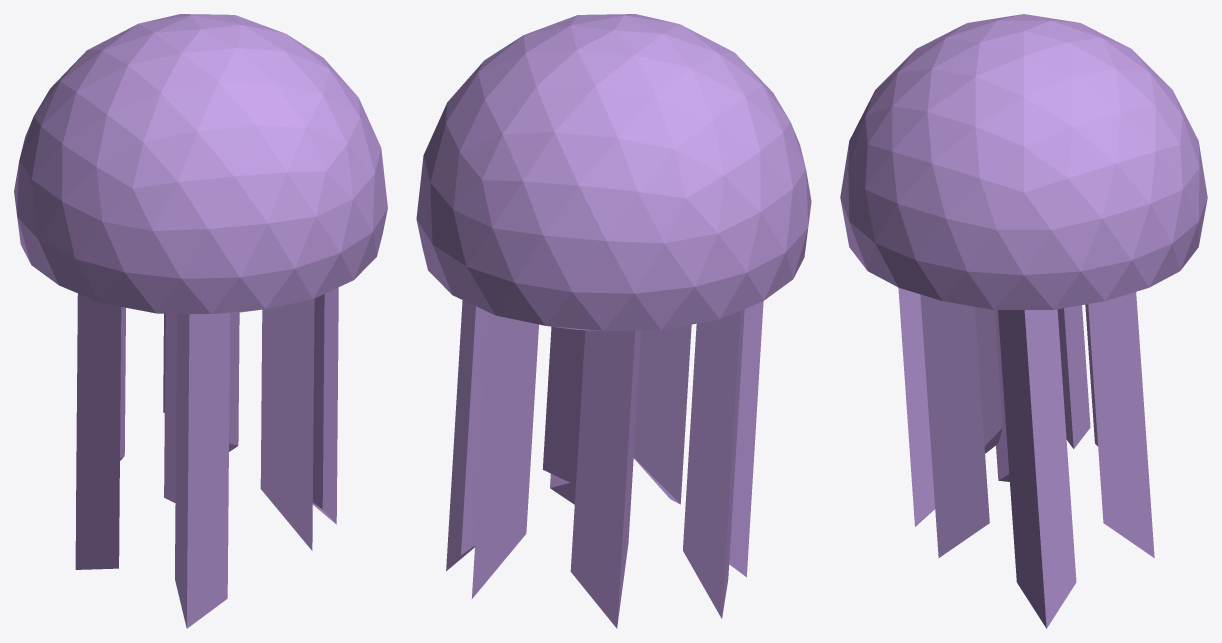
File: jelly.glb
3 renders of one model, left to right at view 1: azimuth 30°, elevation 25°; view 2: azimuth 150°, elevation 25°; view 3: azimuth 270°, elevation 25°, orthographic. The views are drawn at different scales.
Parts seen in each view (by area): view 1: Icosphere; view 2: Icosphere; view 3: Icosphere.
Part boxes in pixels (<box>): Icosphere: <box>14,14,387,628</box>; Icosphere: <box>416,14,811,628</box>; Icosphere: <box>840,14,1207,628</box>.
Size of the model in its own units: 0.5 by 0.7948 by 0.5.
